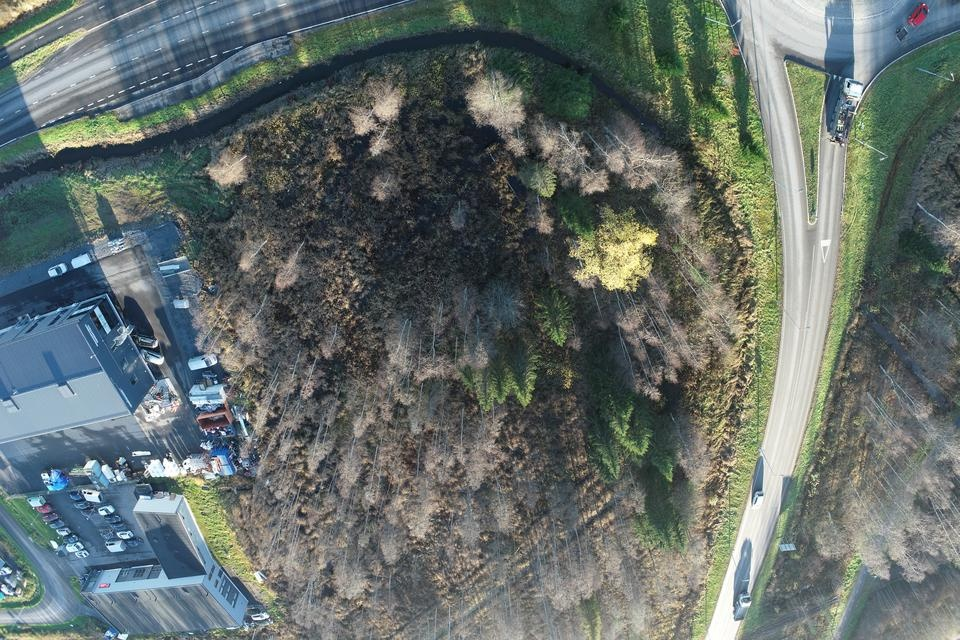roundabout: (657, 0, 960, 139)
